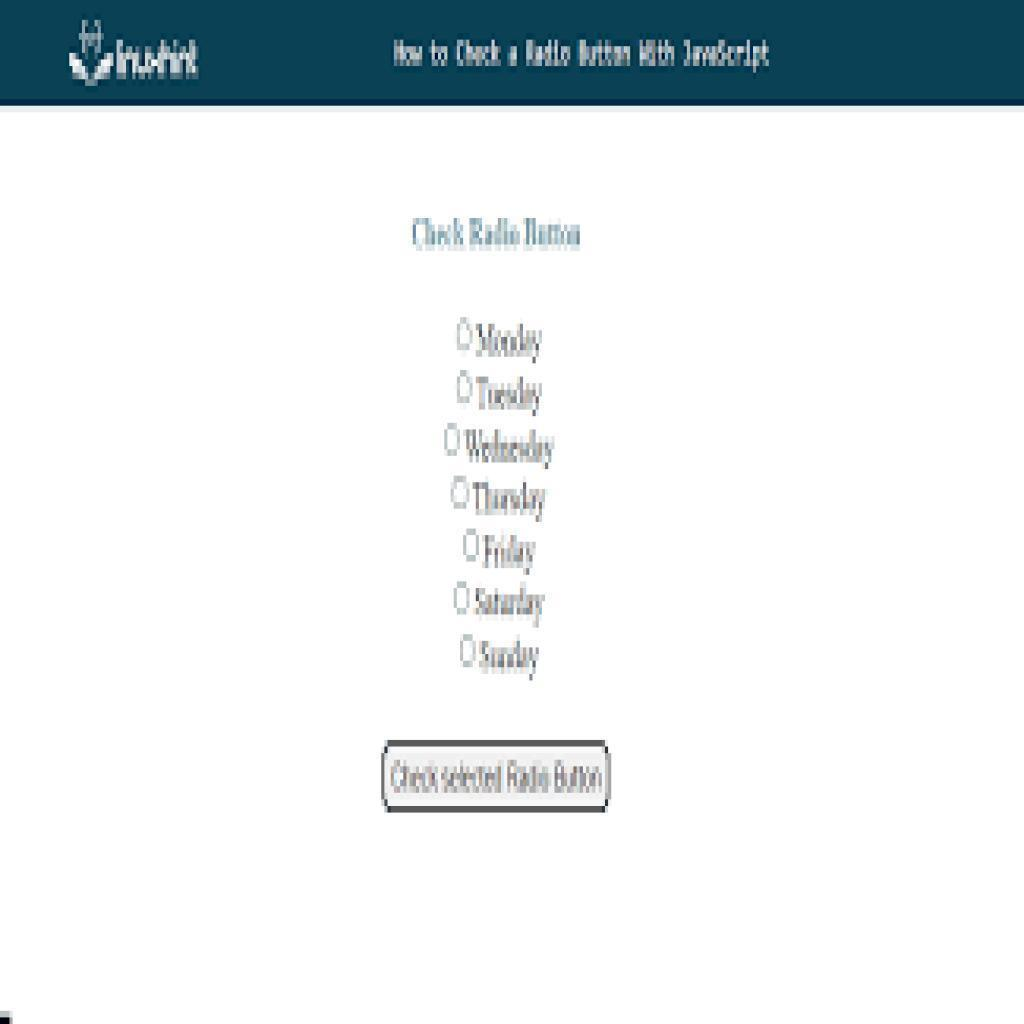button: (384, 740, 609, 811)
label: (410, 214, 584, 257), (467, 428, 554, 469), (474, 369, 548, 417), (472, 476, 548, 519), (473, 584, 547, 625), (473, 323, 543, 361), (480, 638, 544, 678), (482, 528, 537, 569)
radio: (461, 527, 482, 567), (454, 316, 477, 351), (442, 419, 462, 458), (453, 579, 472, 619), (450, 473, 470, 511), (457, 631, 477, 667), (453, 368, 473, 404)
